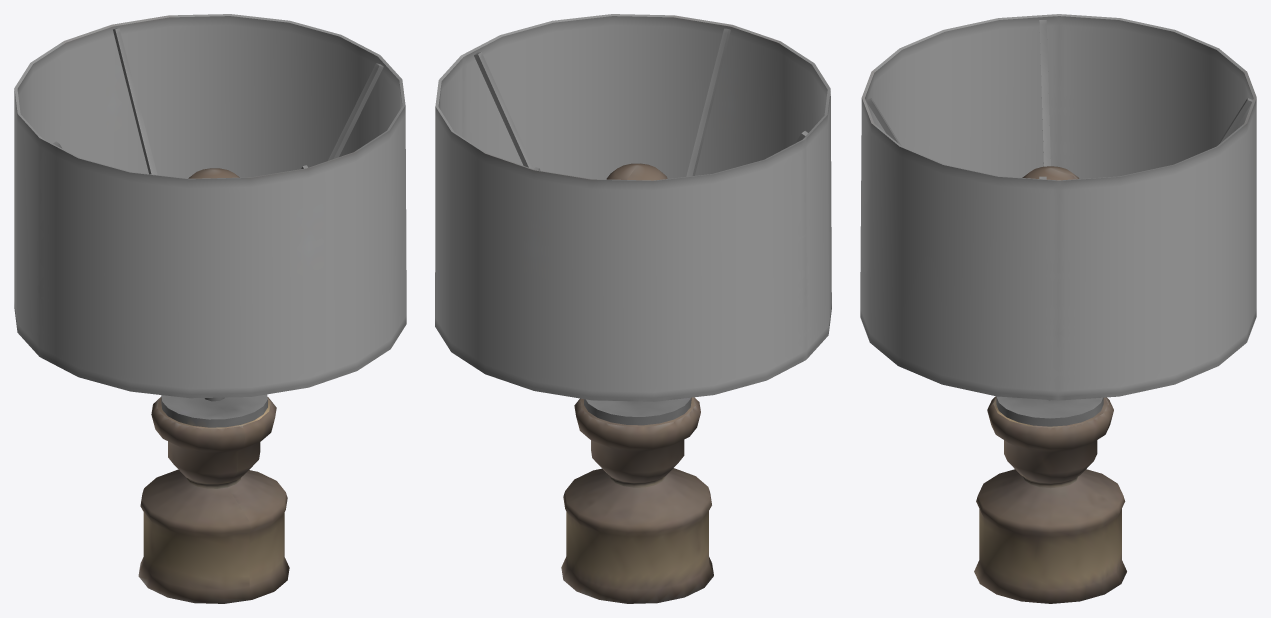
Rendered from Lamp_Table_B.FBX.
3 renders of one model, left to right at view 1: azimuth 30°, elevation 25°; view 2: azimuth 150°, elevation 25°; view 3: azimuth 270°, elevation 25°, orthographic.
Visible parts, largest first — view 1: Lamp_Table_B; view 2: Lamp_Table_B; view 3: Lamp_Table_B.
Boxes of the visible parts, x1,y1,x2,y2 form: Lamp_Table_B: (14, 14, 406, 603); Lamp_Table_B: (435, 14, 831, 603); Lamp_Table_B: (860, 14, 1256, 603).
Size of the model in its own units: 21.55 by 28.44 by 21.56.
